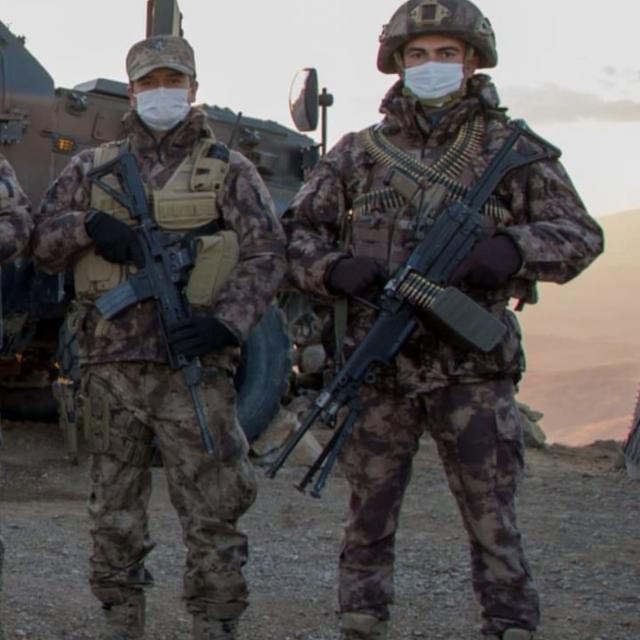poh_personel: (280, 0, 607, 640), (28, 31, 288, 640)
